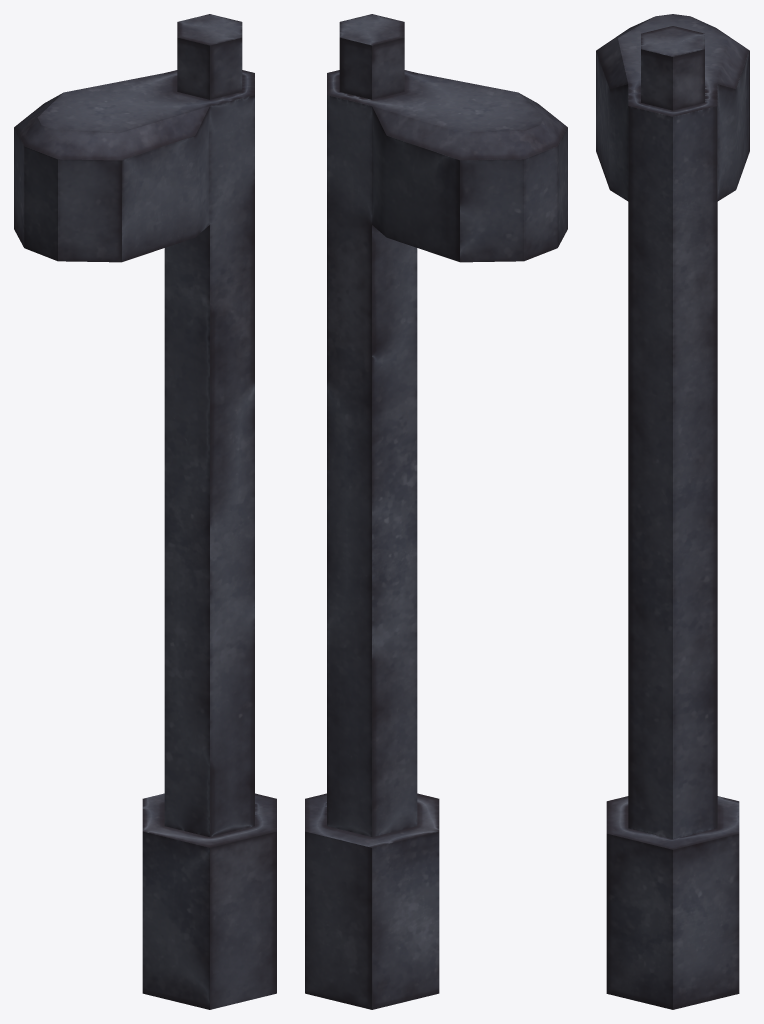
The model's file is Pole.fbx.
3 renders of one model, left to right at view 1: azimuth 30°, elevation 25°; view 2: azimuth 150°, elevation 25°; view 3: azimuth 270°, elevation 25°, orthographic.
Parts seen in each view (by area): view 1: Pole; view 2: Pole; view 3: Pole.
Part boxes in pixels (x1,y1,x2,y2): Pole: (14, 14, 276, 1009); Pole: (305, 14, 567, 1009); Pole: (596, 14, 749, 1009).
Size of the model in its own units: 1.12 by 4 by 0.5959.
1 material, 1 textured.
